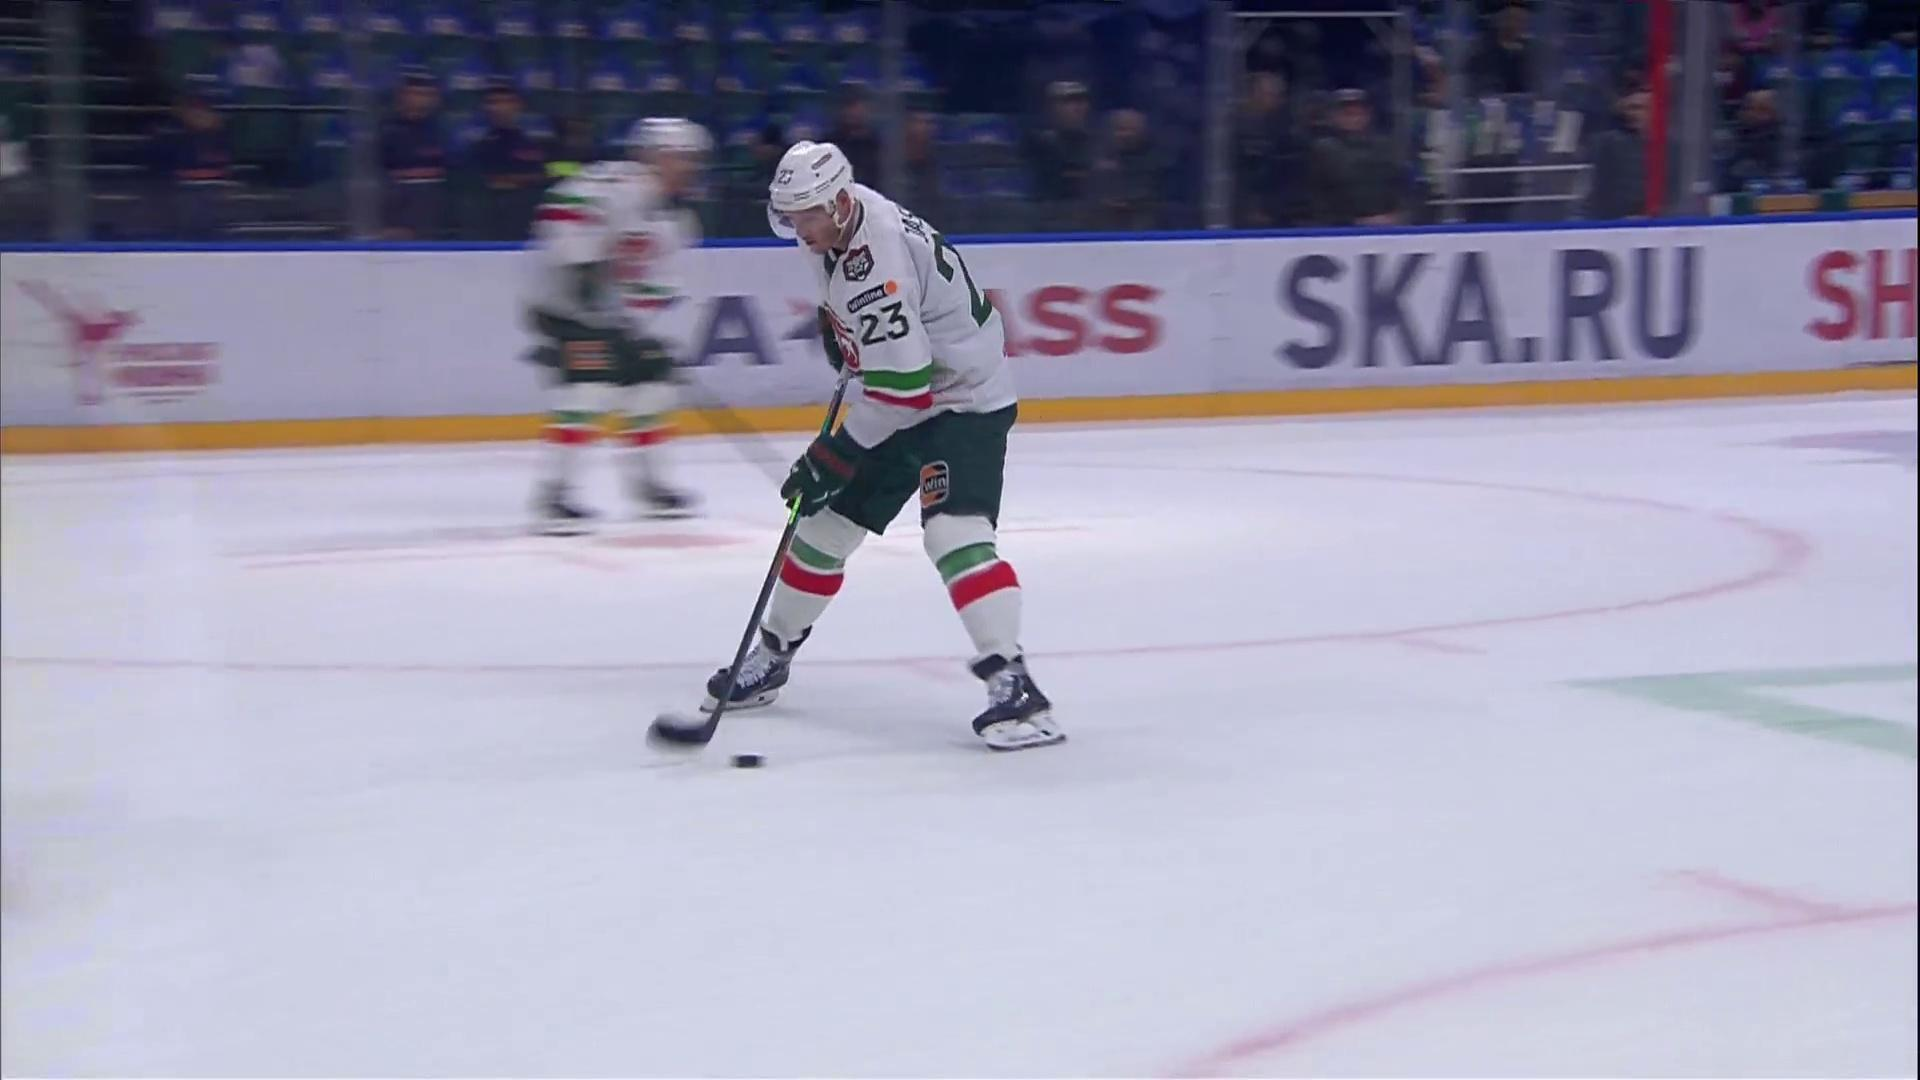ball: (731, 754, 762, 767)
